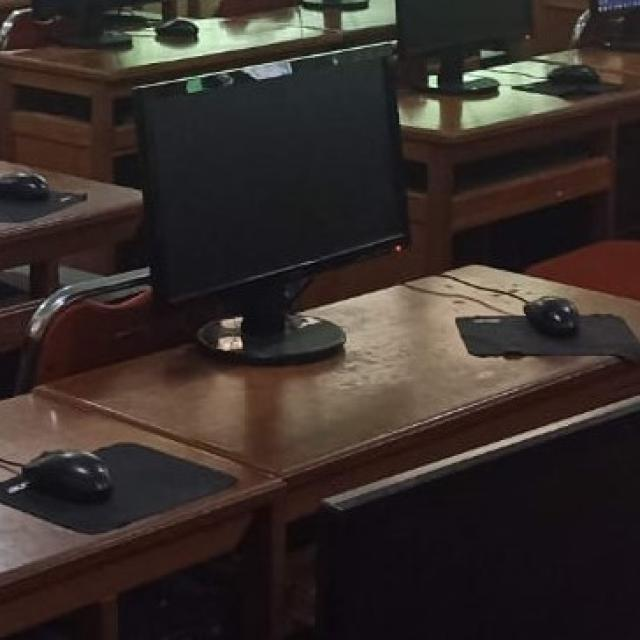offscreen: (135, 44, 406, 302), (397, 0, 531, 53)
